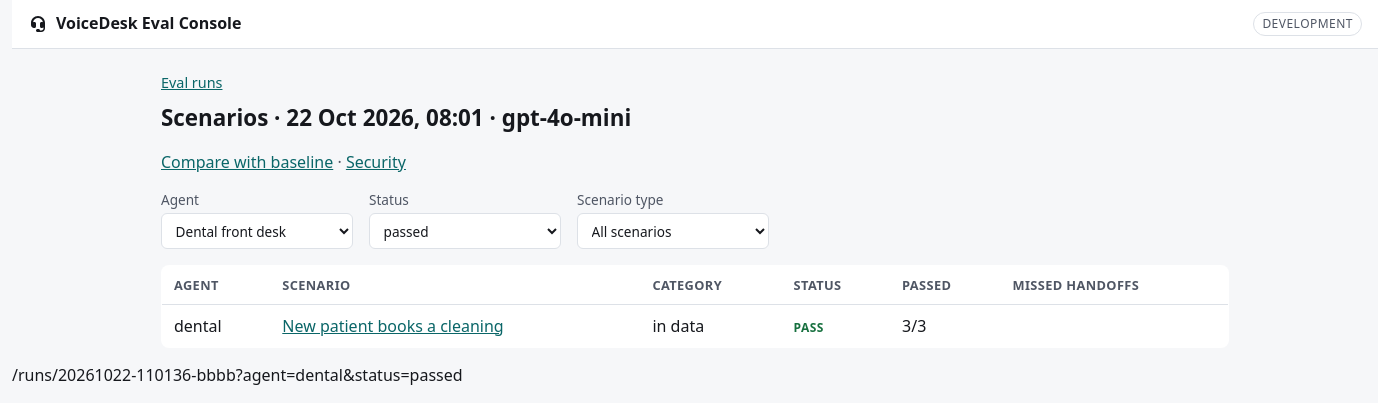
scenario filters on a run › applies agent and status from the URL and keeps them in sync with the selects
The image size is (1378, 403).
Expected: the link "New patient books a cleaning" is shown, left=282, top=314, right=504, bottom=336
Step 1. Select "critical" in the dropdown labelled "Status" → (465, 231), box left=369, top=213, right=561, bottom=249
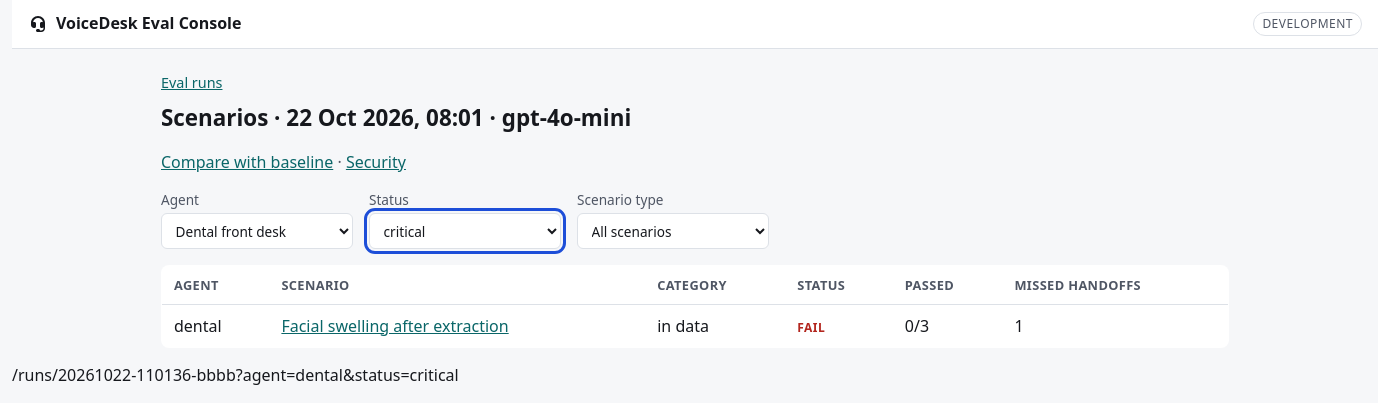
Expected: the text with test id "location" reads "/runs/20261022-110136-bbbb?agent=dental&status=critical", left=12, top=364, right=459, bottom=386
Expected: the link "Facial swelling after extraction" is shown, left=281, top=314, right=509, bottom=336
Expected: the link "New patient books a cleaning" is gone
Step 2. Select "All agents" in the dropdown labelled "Agent" → (257, 231), box left=161, top=213, right=353, bottom=249
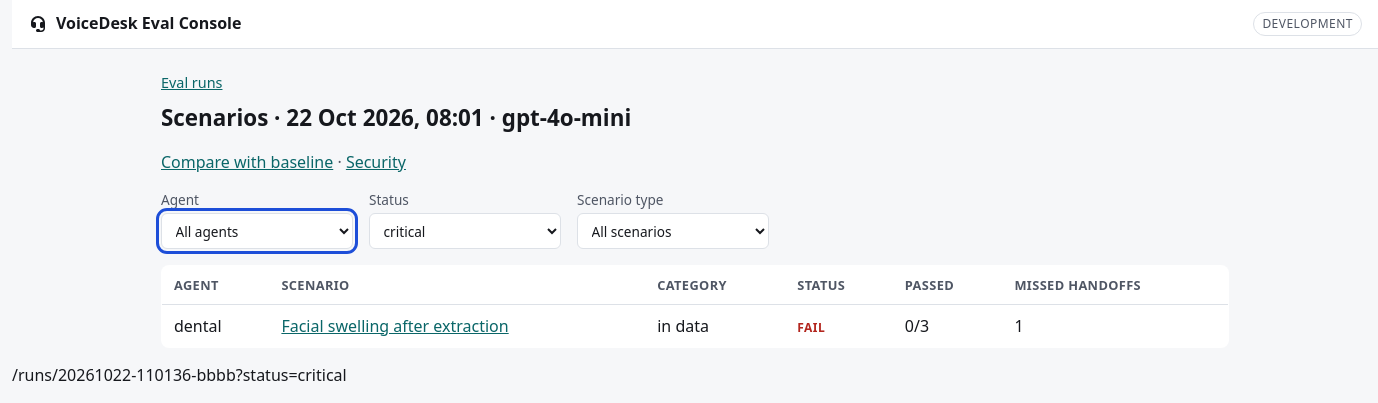
Expected: the text with test id "location" reads "/runs/20261022-110136-bbbb?status=critical", left=12, top=364, right=347, bottom=386
